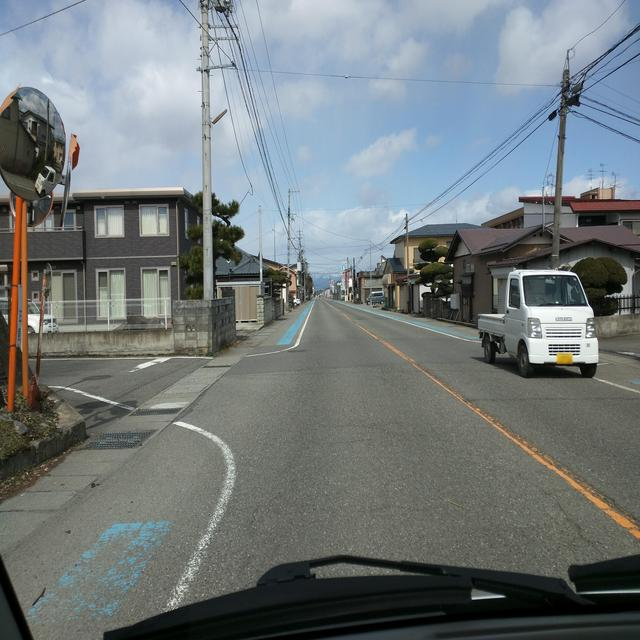Billboard: (341, 272, 347, 288)
Car: (478, 267, 598, 378), (371, 291, 384, 304), (293, 296, 299, 305)
Manhole: (83, 375, 111, 379)
Vegetation: (563, 257, 627, 297), (262, 260, 312, 298)
